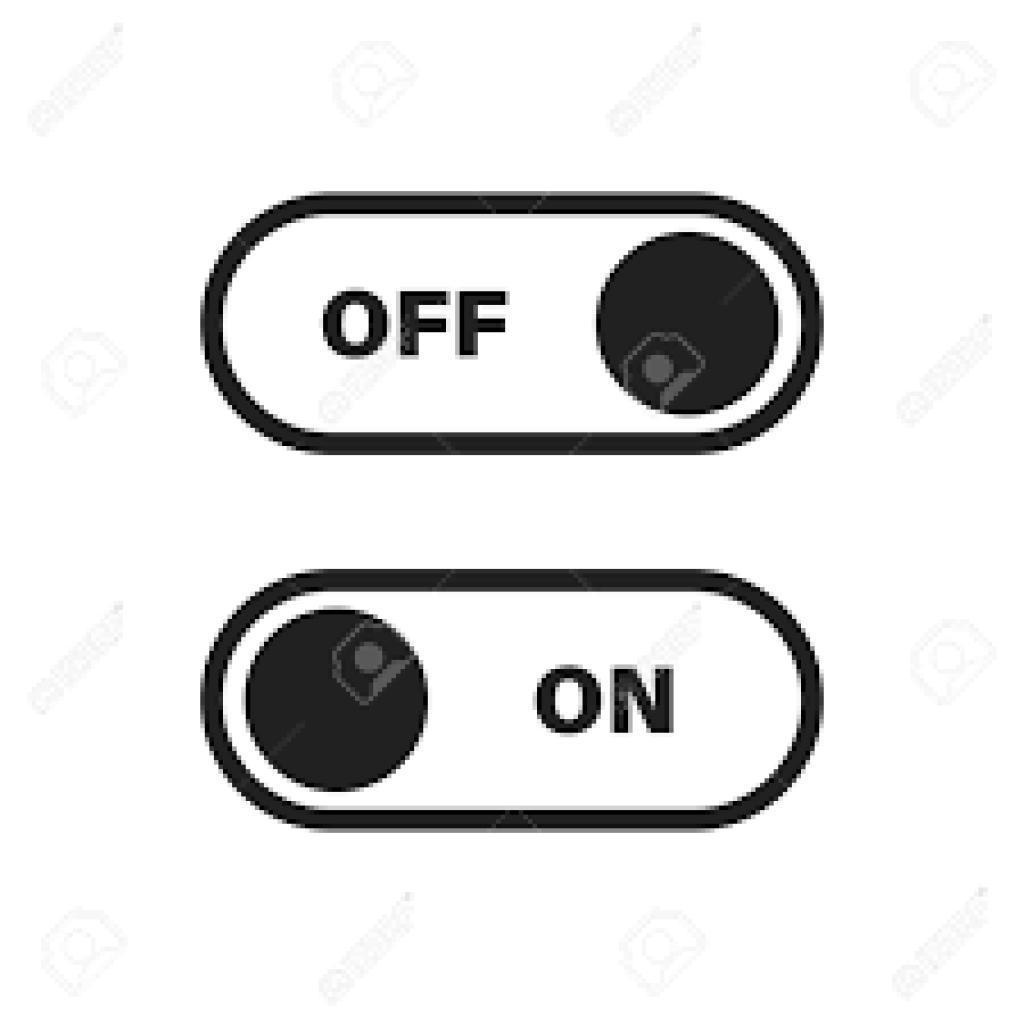switch: (197, 187, 830, 464), (197, 565, 831, 831)
